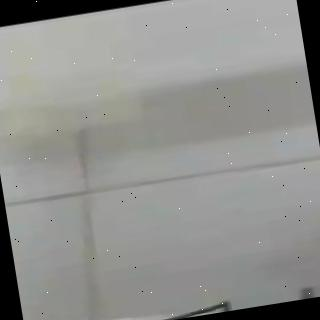fire: (0, 137, 103, 320)
